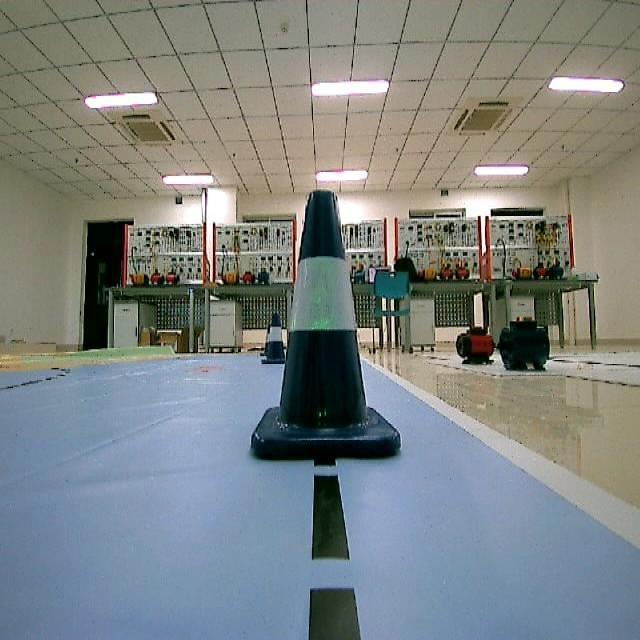obstacle: (242, 186, 411, 474), (256, 312, 294, 373)
